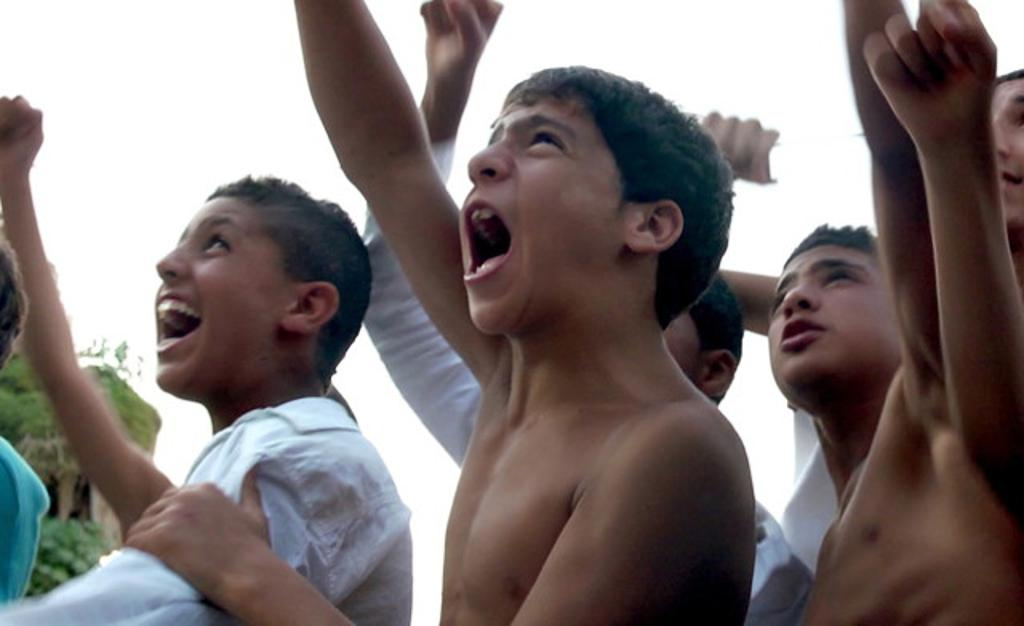face: (462, 80, 614, 332), (156, 194, 282, 394), (770, 246, 916, 396)
